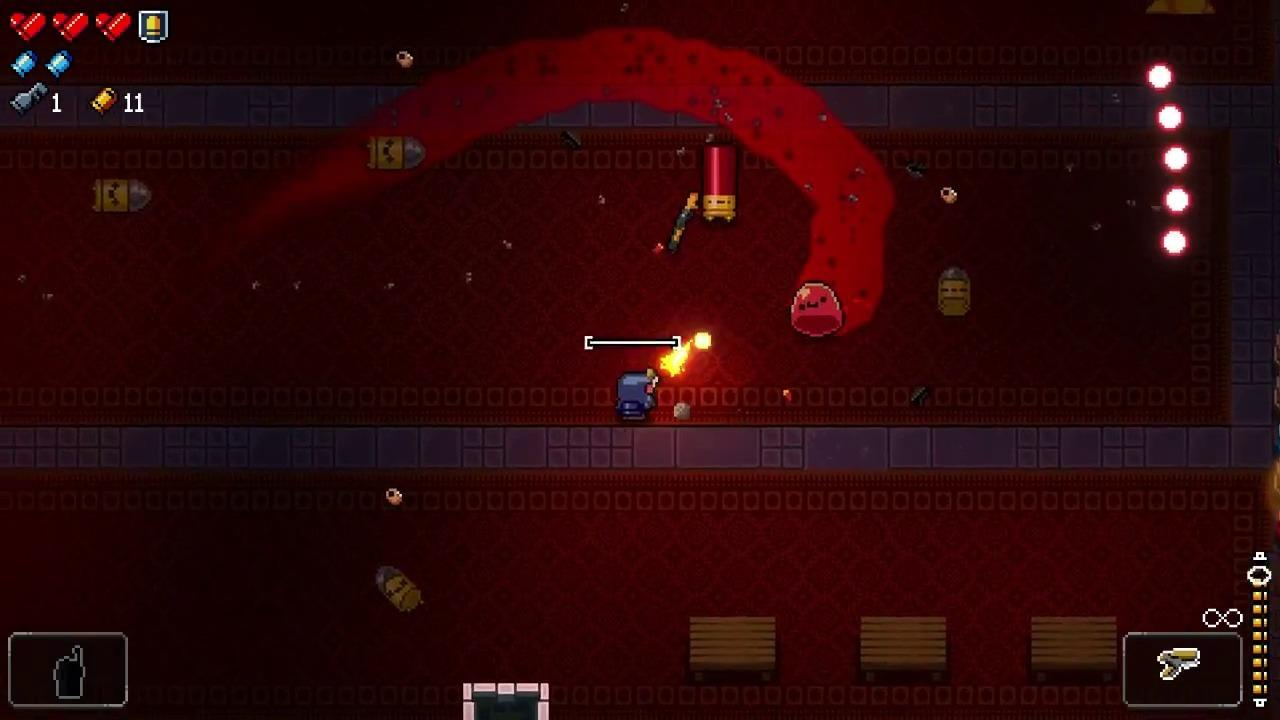blobulon_l: (789, 281, 844, 337)
bullet: (1160, 228, 1189, 256), (1164, 187, 1191, 215), (1147, 63, 1173, 91), (1156, 105, 1184, 131), (1163, 145, 1189, 173)
dead_bullet_kin: (377, 566, 424, 612), (366, 136, 429, 170), (94, 179, 153, 212), (938, 266, 970, 317)
player: (615, 371, 655, 425)
red_shotgun_kin: (701, 143, 737, 224)
table: (1031, 617, 1118, 682), (689, 617, 774, 682), (862, 617, 946, 681)
